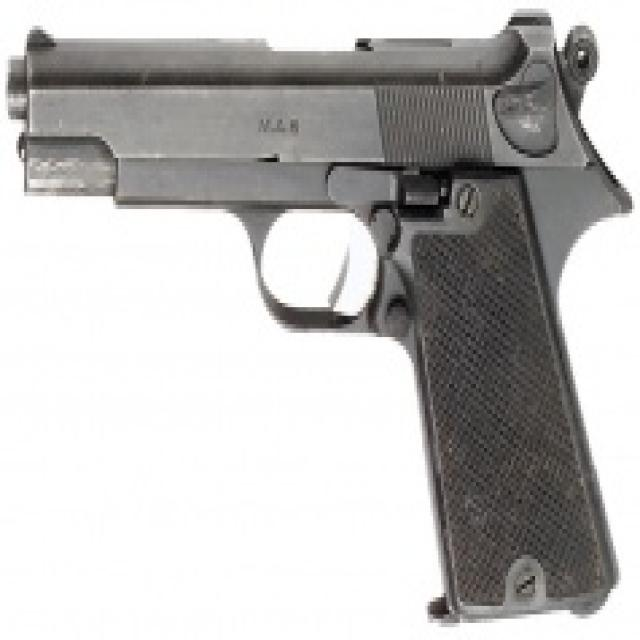pistol: (6, 2, 637, 634)
